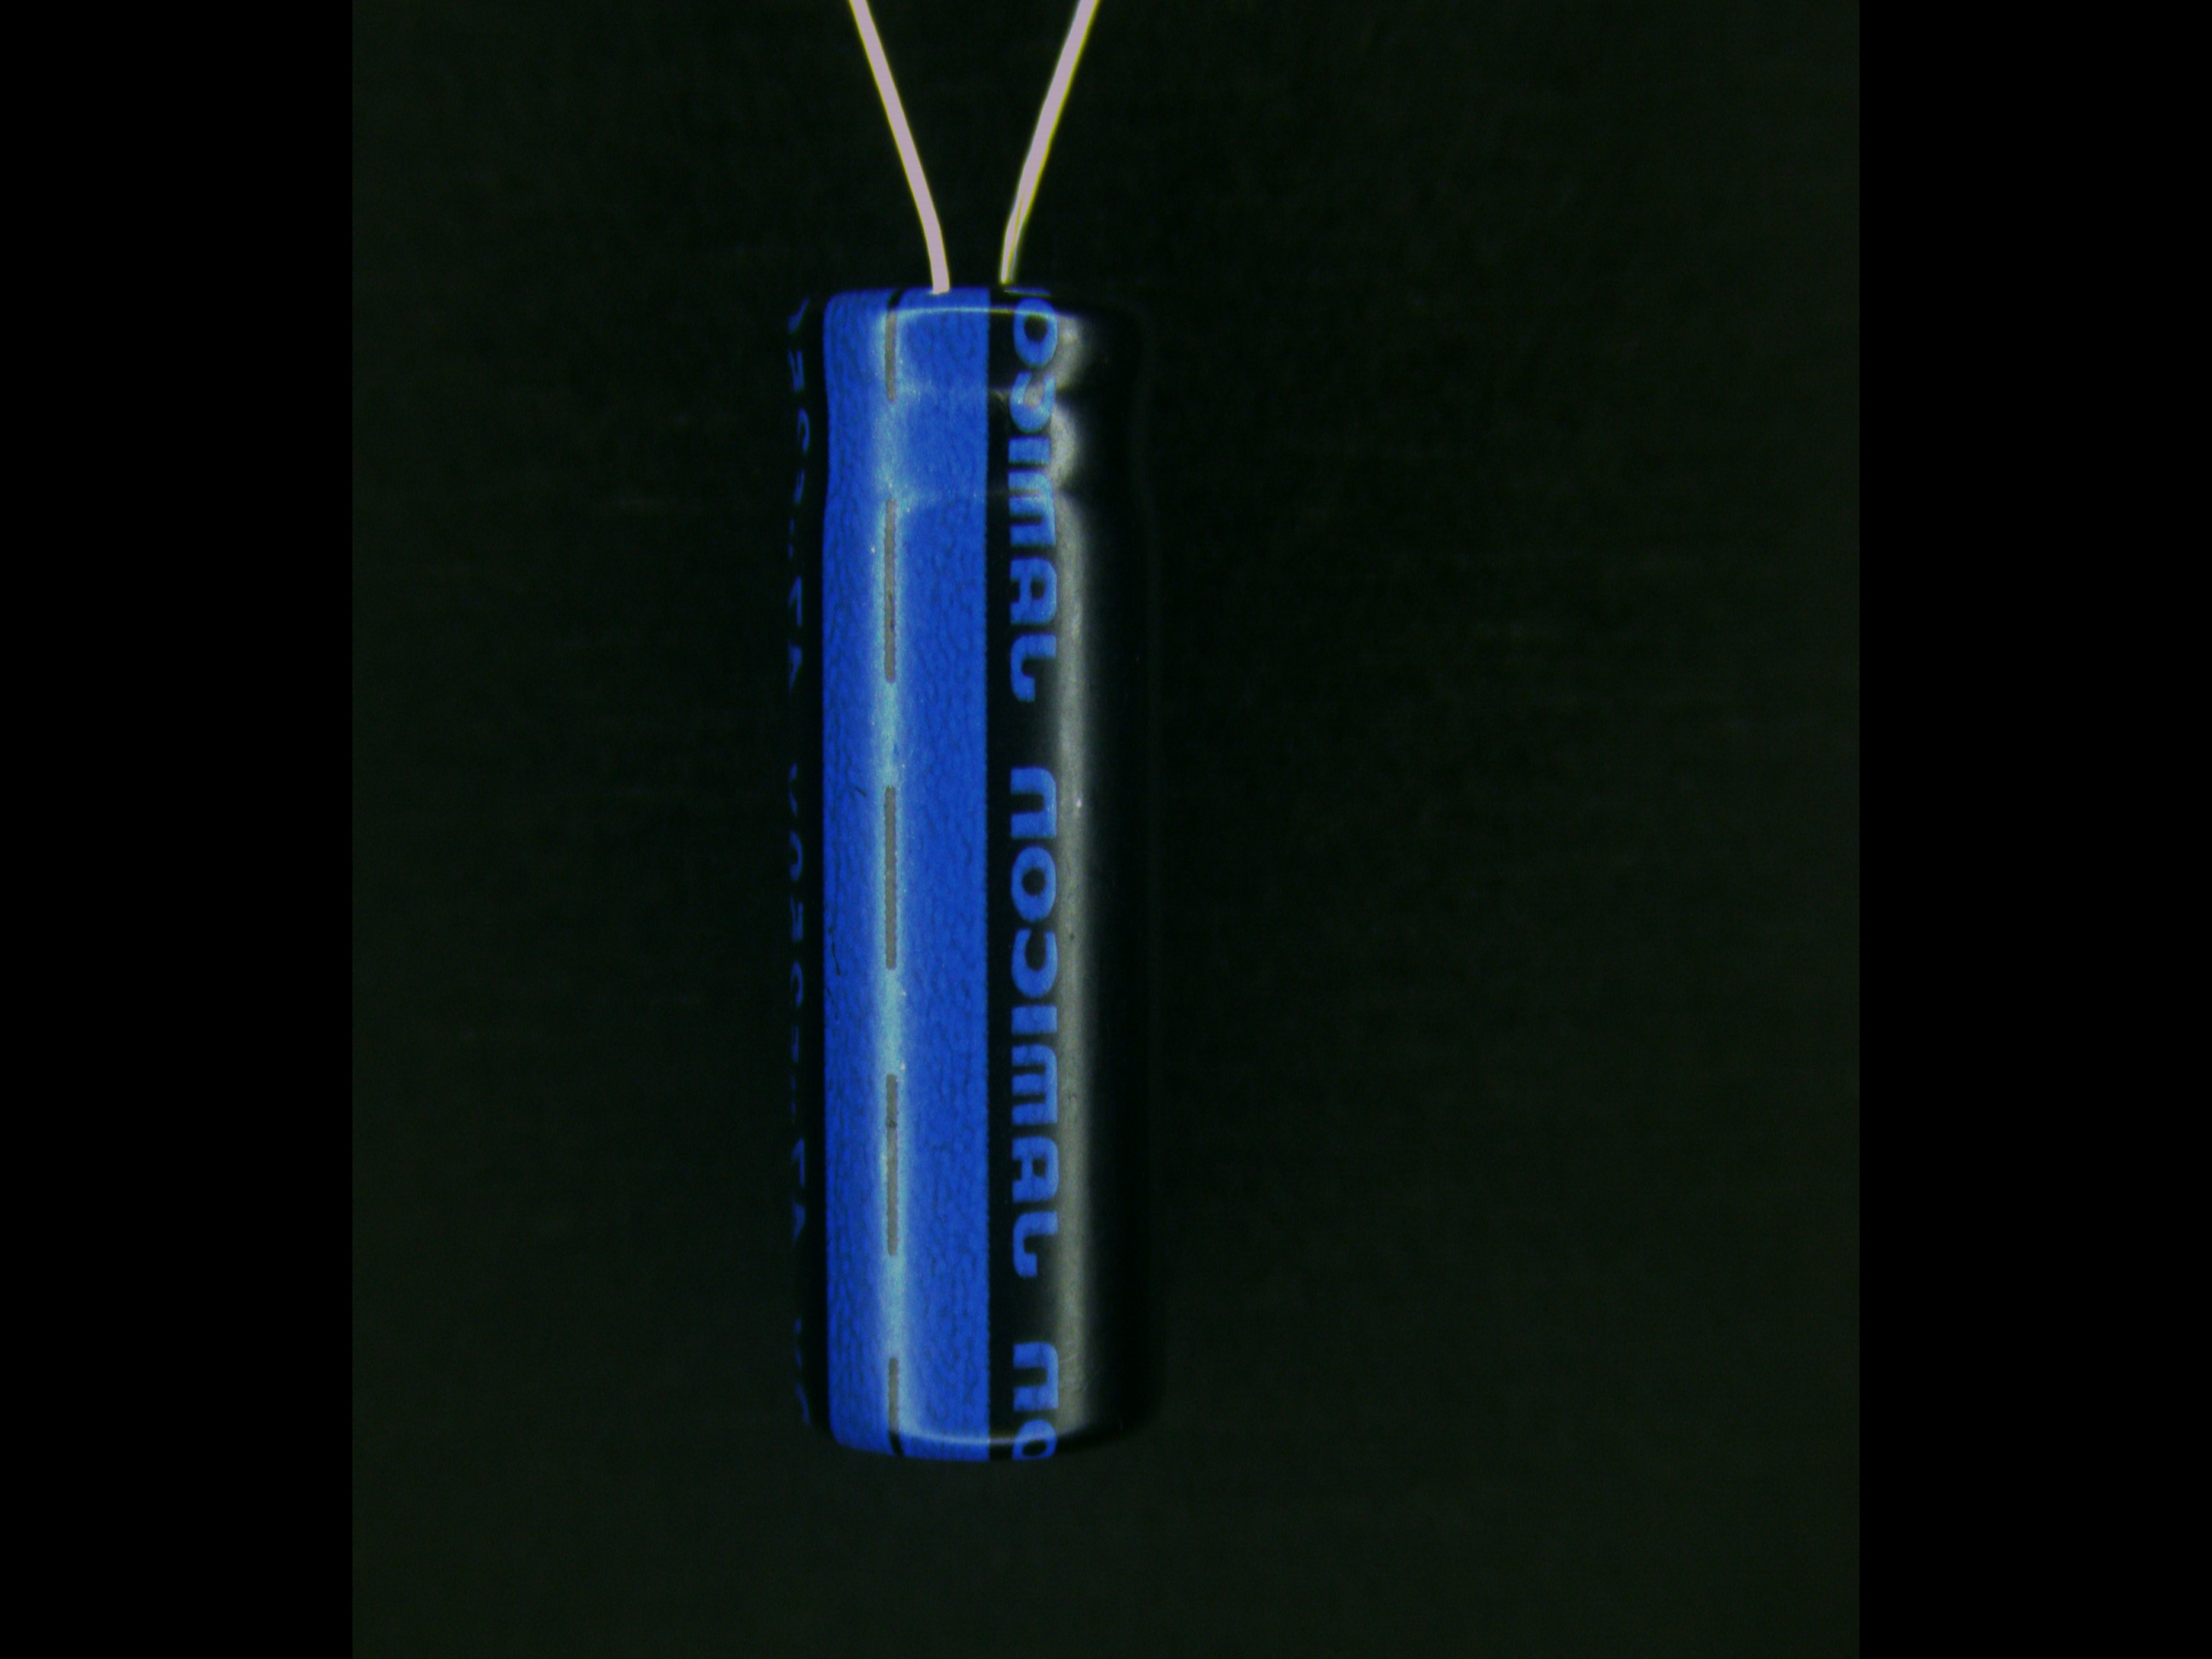c2: (780, 162, 1167, 1467)
